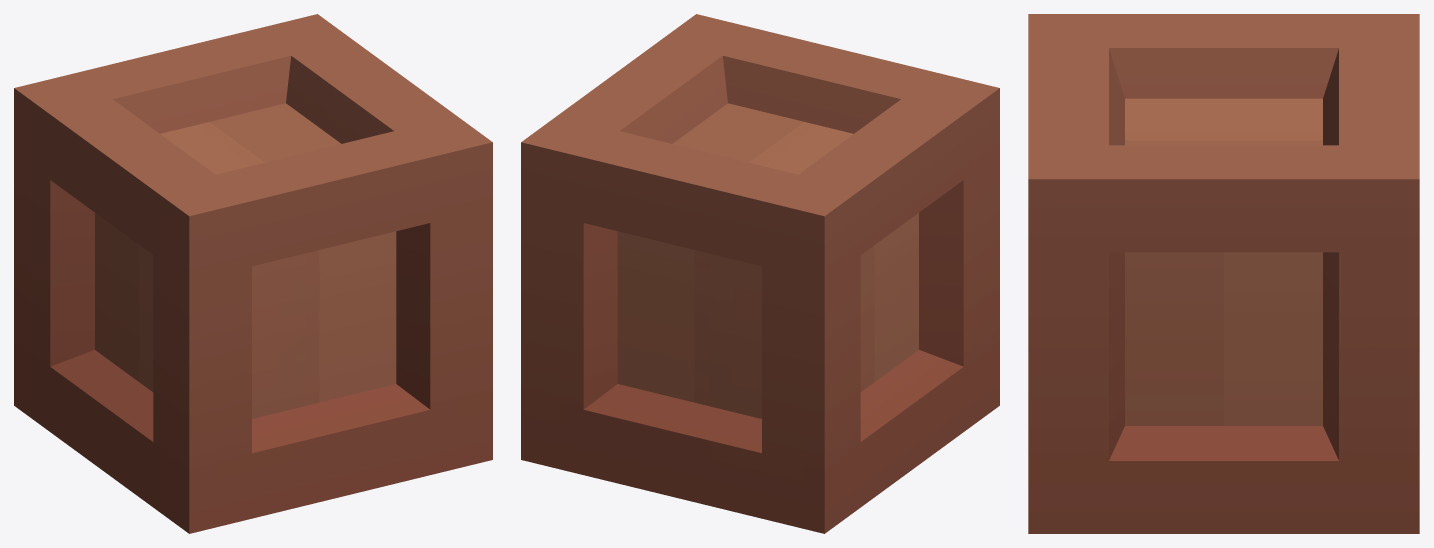
File: kaykit-medieval-hexagon-pack-crate-a-small.glb
3 renders of one model, left to right at view 1: azimuth 30°, elevation 25°; view 2: azimuth 150°, elevation 25°; view 3: azimuth 270°, elevation 25°, orthographic. The views are drawn at different scales.
Visible parts, largest first — view 1: crate_A_small; view 2: crate_A_small; view 3: crate_A_small.
Boxes of the visible parts, x1,y1,x2,y2 form: crate_A_small: [14, 14, 492, 533]; crate_A_small: [521, 14, 999, 533]; crate_A_small: [1028, 14, 1419, 533].
Bounding box in the file's own units: 0.14 × 0.14 × 0.14.
1 material, 1 textured.
